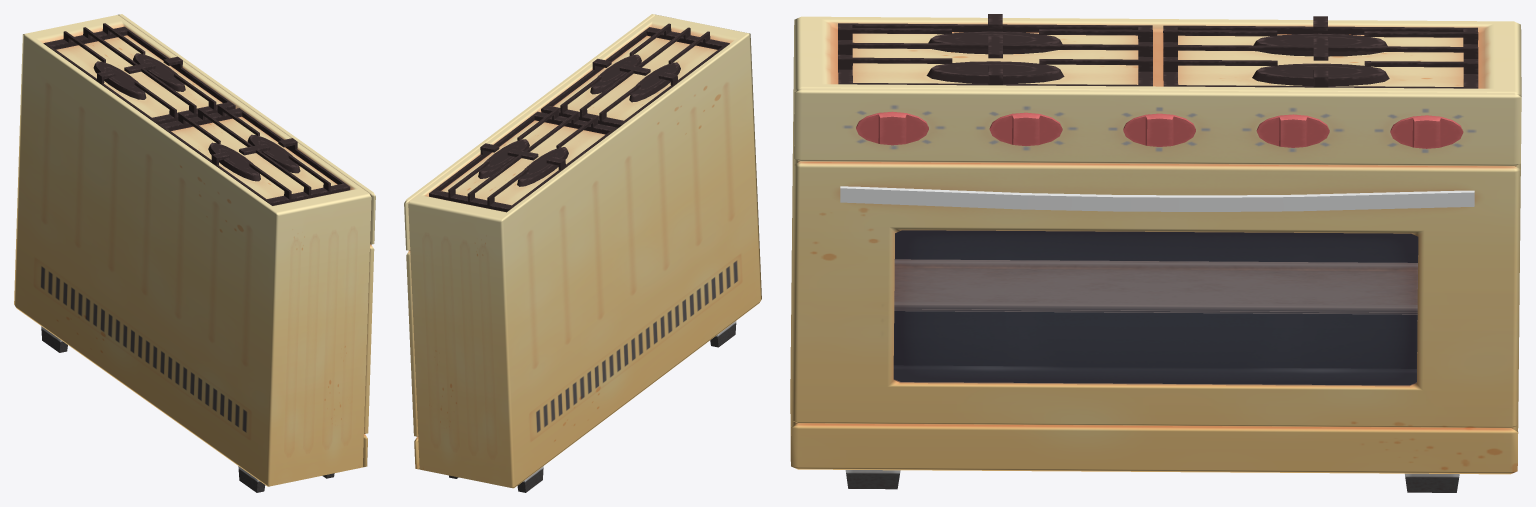
Rendered from stove.gltf.
The picture shows the model from 3 angles, left to right: view 1: azimuth 30°, elevation 25°; view 2: azimuth 150°, elevation 25°; view 3: azimuth 270°, elevation 25°; orthographic projection. The views are drawn at different scales.
Visible parts, largest first — view 1: Stove_base.003, Stove_grate.002, Stove_heaters.001, Stove_frontTop.001, Stove_door.003, Stove_legs.002; view 2: Stove_base.003, Stove_grate.002, Stove_heaters.001, Stove_frontTop.001, Stove_door.003, Stove_legs.002; view 3: Stove_door.003, Stove_base.003, Stove_glass.002, Stove_frontTop.001, Stove_frontBtm.001, Stove_baingPan.002, Stove_grate.002, Stove_handle.002, Stove_switches.002, Stove_heaters.001, Stove_legs.002.
Part boxes in pixels (x1,y1,x2,y2): Stove_base.003: [14, 15, 371, 486]; Stove_grate.002: [43, 23, 350, 205]; Stove_heaters.001: [93, 53, 300, 181]; Stove_frontTop.001: [118, 14, 375, 244]; Stove_door.003: [364, 244, 374, 433]; Stove_legs.002: [41, 326, 334, 492]; Stove_base.003: [408, 15, 761, 488]; Stove_grate.002: [429, 23, 729, 212]; Stove_heaters.001: [478, 54, 680, 186]; Stove_frontTop.001: [404, 14, 656, 250]; Stove_door.003: [406, 250, 418, 436]; Stove_legs.002: [449, 321, 736, 492]; Stove_door.003: [791, 161, 1520, 428]; Stove_base.003: [790, 16, 1521, 461]; Stove_glass.002: [894, 230, 1417, 385]; Stove_frontTop.001: [794, 88, 1521, 166]; Stove_frontBtm.001: [791, 423, 1518, 474]; Stove_baingPan.002: [894, 259, 1417, 314]; Stove_grate.002: [838, 14, 1478, 88]; Stove_handle.002: [840, 186, 1474, 211]; Stove_switches.002: [856, 111, 1463, 148]; Stove_heaters.001: [926, 31, 1389, 85]; Stove_legs.002: [845, 470, 1459, 492].
Size of the model in its own units: 7.85 by 19.82 by 30.36.
1 material, 1 textured.
